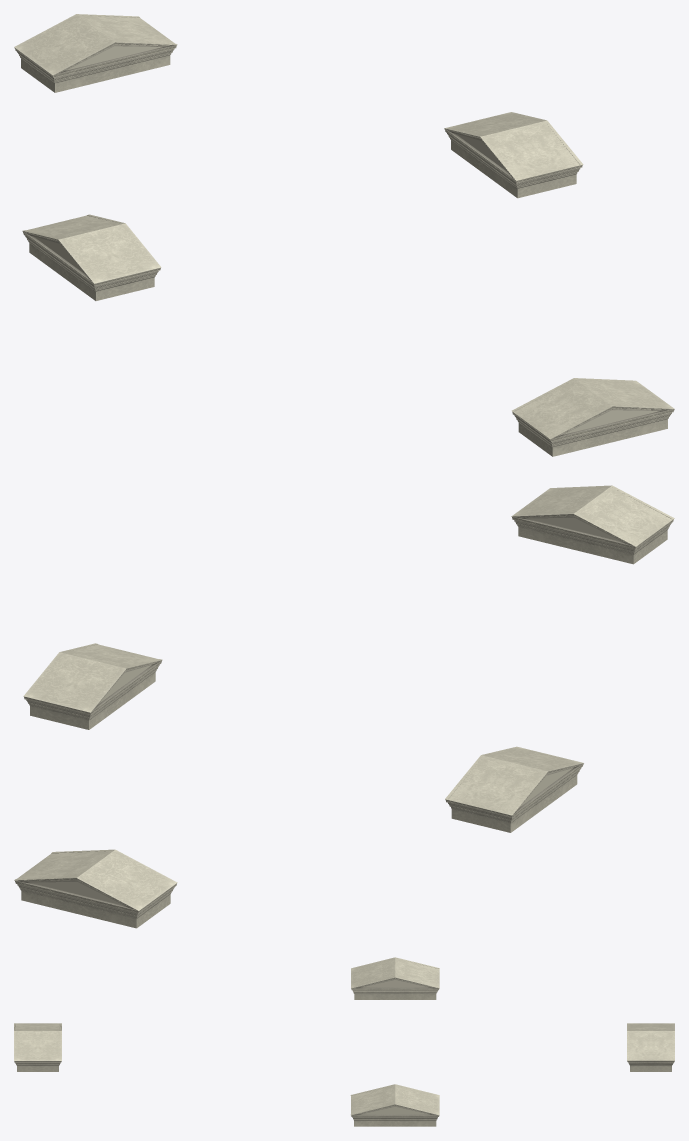
Rendered from Roof_360.glb.
3 views of the same model, one above another, from view 1: azimuth 30°, elevation 25°; view 2: azimuth 150°, elevation 25°; view 3: azimuth 270°, elevation 25° (orthographic). The views are drawn at different scales.
Parts seen in each view (by area): view 1: Roof360_new (3), Roof360_new (2), Roof360_new (1), Roof360_new; view 2: Roof360_new (2), Roof360_new (3), Roof360_new (1), Roof360_new; view 3: Roof360_new, Roof360_new (1), Roof360_new (2), Roof360_new (3).
Boxes of the visible parts, <box> form: Roof360_new (3): <box>14,14,177,92</box>; Roof360_new (2): <box>511,378,674,456</box>; Roof360_new (1): <box>22,214,161,300</box>; Roof360_new: <box>444,112,583,198</box>; Roof360_new (2): <box>511,485,674,564</box>; Roof360_new (3): <box>14,849,177,928</box>; Roof360_new (1): <box>445,746,583,832</box>; Roof360_new: <box>23,643,162,729</box>; Roof360_new: <box>350,1084,439,1126</box>; Roof360_new (1): <box>351,957,439,999</box>; Roof360_new (2): <box>14,1023,61,1071</box>; Roof360_new (3): <box>627,1023,674,1071</box>.
Size of the model in its own units: 159 by 11.99 by 303.
Materials: 3 (1 with a texture image).
